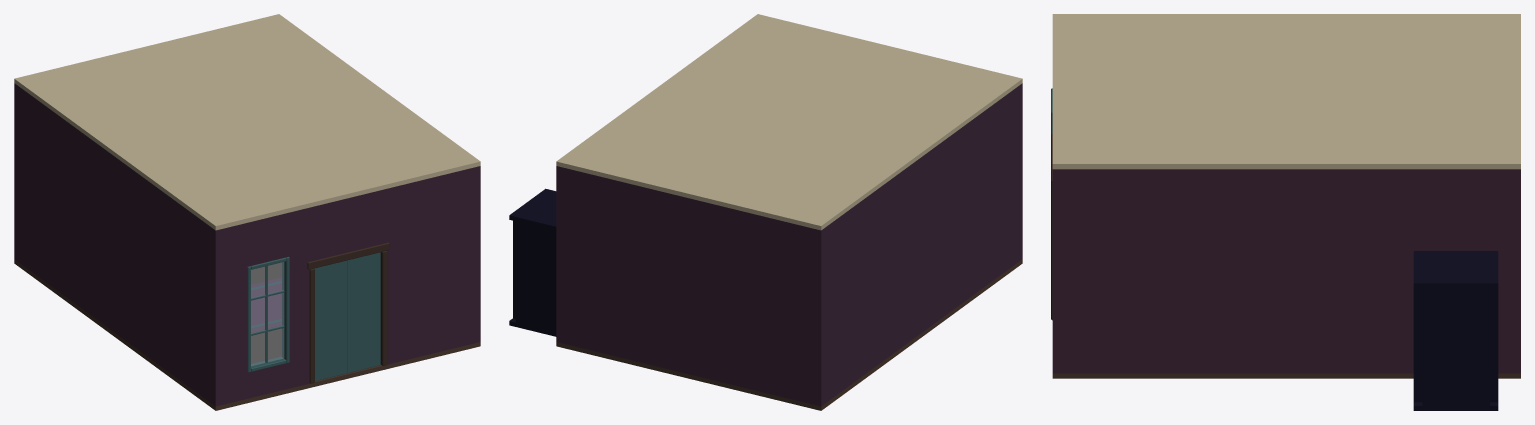
File: level-1.glb
3 views of the same model, side by side, from view 1: azimuth 30°, elevation 25°; view 2: azimuth 150°, elevation 25°; view 3: azimuth 270°, elevation 25° (orthographic). The views are drawn at different scales.
Parts seen in each view (by area): view 1: Ceiling, Wall_W, Wall_S, Front_Door_R, Front_Door_L, Floor, Window_Glass, Front_Door_Frame, Window_Frame, Rug, Wall_N; view 2: Ceiling, Wall_N, Wall_W, Library_Vestibule, Floor, Wall_S; view 3: Wall_E, Ceiling, Library_Vestibule, Floor, Wall_S, Wall_N.
Part boxes in pixels (x1,y1,x2,y2): Ceiling: (14,14,480,230); Wall_W: (18,86,211,403); Wall_S: (212,166,480,406); Front_Door_R: (347,252,380,373); Front_Door_L: (314,260,347,381); Floor: (14,259,480,410); Window_Glass: (251,262,283,366); Front_Door_Frame: (307,242,389,383); Window_Frame: (247,256,289,372); Rug: (251,277,281,332); Wall_N: (14,83,17,261); Ceiling: (556,14,1022,230); Wall_N: (556,166,824,406); Wall_W: (825,86,1018,403); Library_Vestibule: (509,188,556,336); Floor: (556,259,1022,410); Wall_S: (1019,83,1022,261); Wall_E: (1061,169,1512,373); Ceiling: (1052,14,1520,169); Library_Vestibule: (1413,251,1498,410); Floor: (1052,373,1520,378); Wall_S: (1052,169,1061,373); Wall_N: (1512,169,1520,373).
Size of what is drawn, in the model's own units: 7.65 by 4.2 by 8.33.
